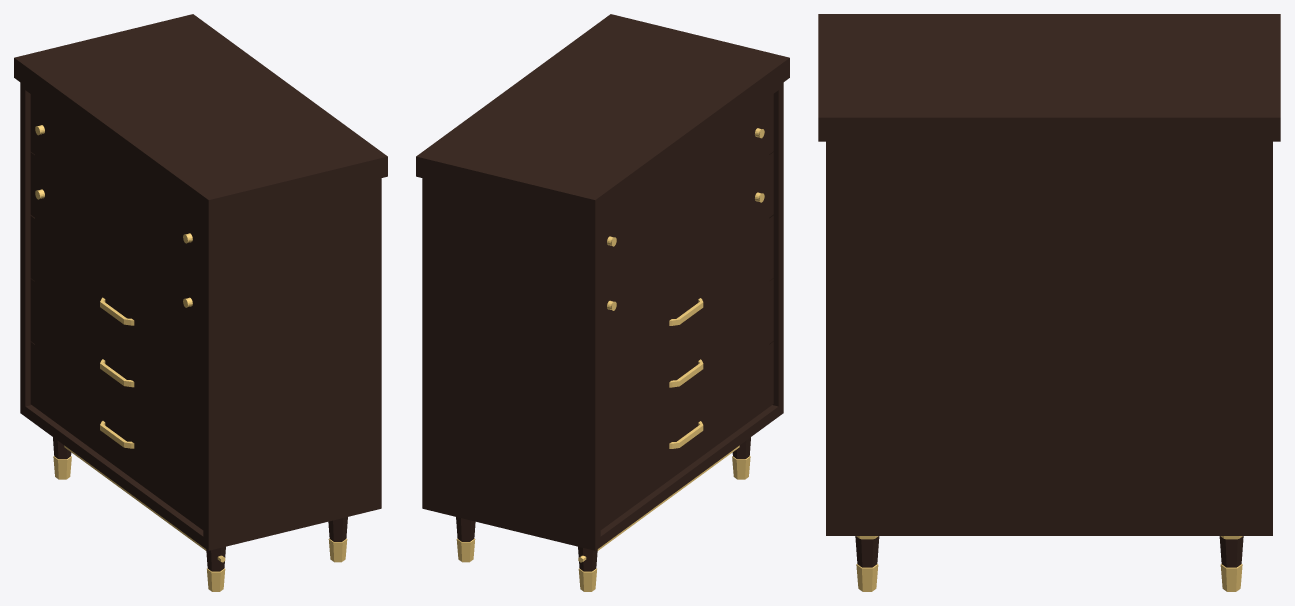
File: комод большой спальня.fbx
3 renders of one model, left to right at view 1: azimuth 30°, elevation 25°; view 2: azimuth 150°, elevation 25°; view 3: azimuth 270°, elevation 25°, orthographic. The views are drawn at different scales.
Parts seen in each view (by area): view 1: Cube.071; view 2: Cube.071; view 3: Cube.071.
Boxes of the visible parts, x1=… form: Cube.071: x1=14, y1=14, x2=387, y2=591; Cube.071: x1=416, y1=14, x2=789, y2=591; Cube.071: x1=818, y1=14, x2=1280, y2=591.
Bounding box in the file's own units: 760 × 1667 × 1431.
